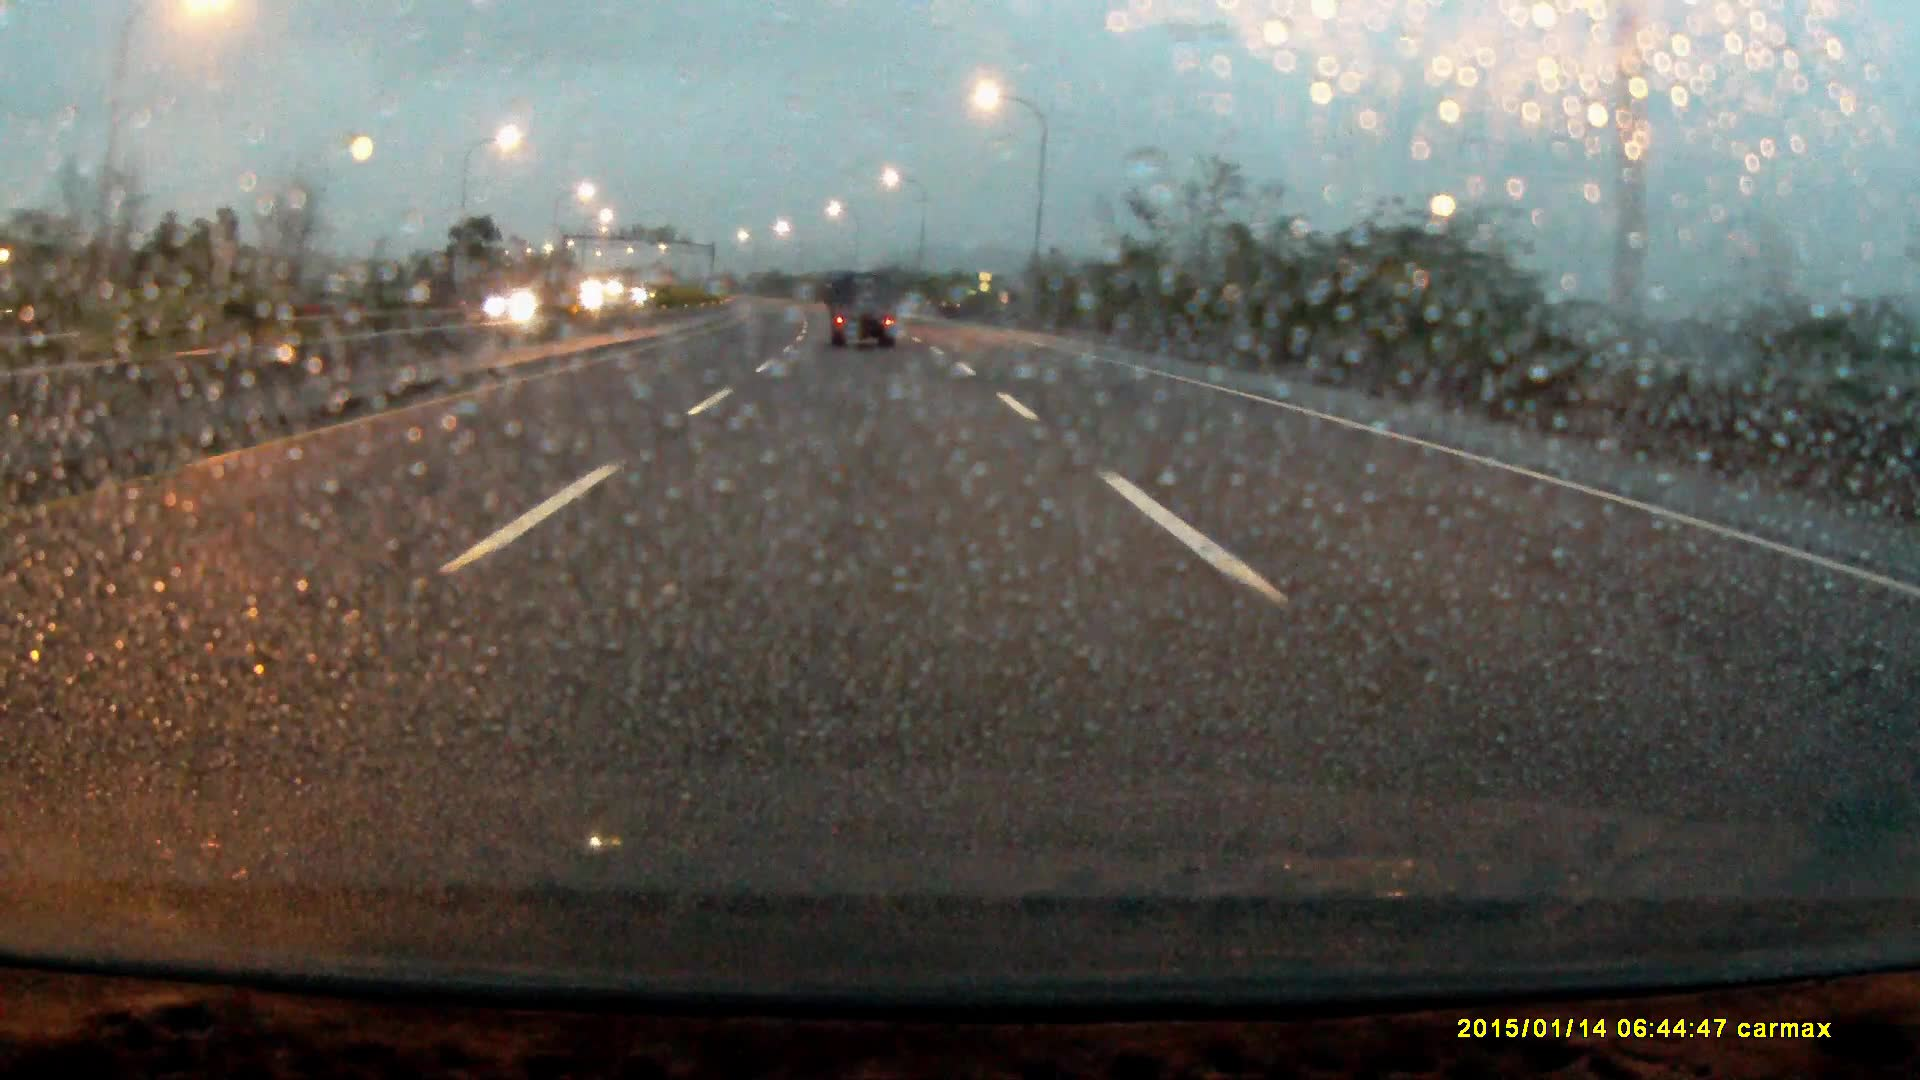vehicle: (831, 276, 898, 351), (485, 287, 558, 322)
